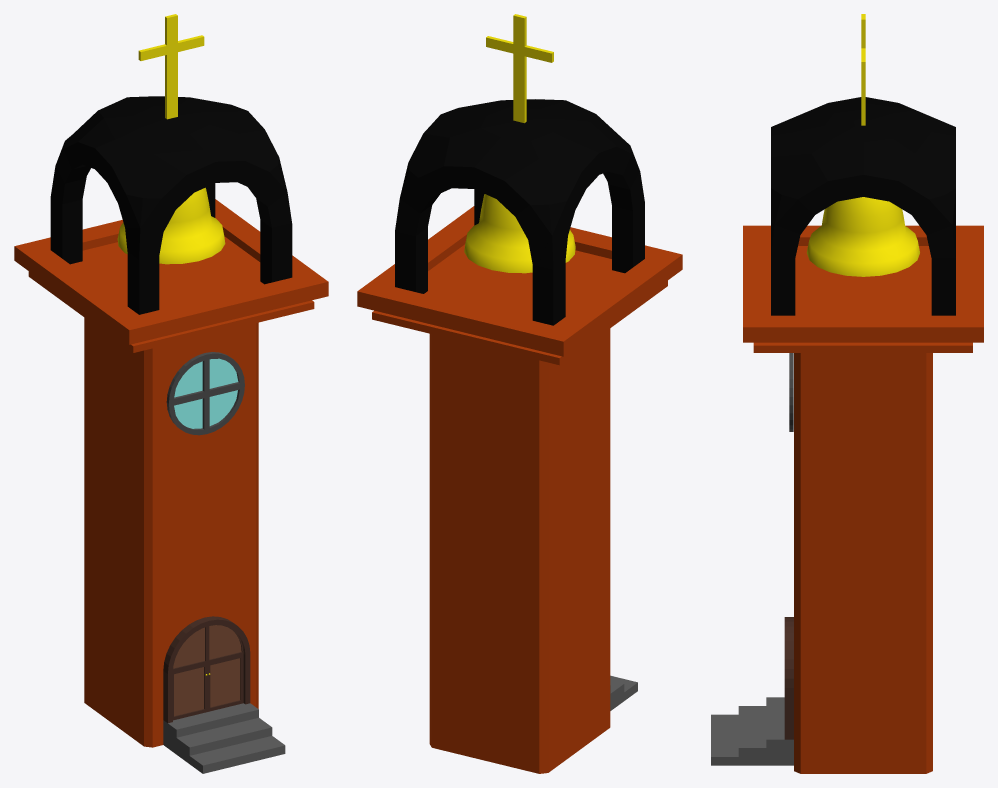
File: towerADI.fbx
The picture shows the model from 3 angles, left to right: view 1: azimuth 30°, elevation 25°; view 2: azimuth 150°, elevation 25°; view 3: azimuth 270°, elevation 25°; orthographic projection. The views are drawn at different scales.
Parts seen in each view (by area): view 1: Corp Turn, arcada, Scari, usa, Rozasa, cloot, usa arcada, Cruce; view 2: Corp Turn, arcada, cloot, Cruce, Scari; view 3: Corp Turn, arcada, cloot, Scari, usa arcada, Cruce.
Boxes of the visible parts, x1=… form: Corp Turn: x1=14, y1=199, x2=328, y2=747; arcada: x1=50, y1=96, x2=292, y2=314; Scari: x1=163, y1=703, x2=285, y2=773; usa: x1=173, y1=625, x2=243, y2=720; Rozasa: x1=166, y1=352, x2=244, y2=435; cloot: x1=117, y1=187, x2=225, y2=264; usa arcada: x1=163, y1=616, x2=250, y2=723; Cruce: x1=138, y1=14, x2=204, y2=119; Corp Turn: x1=357, y1=206, x2=682, y2=773; arcada: x1=395, y1=99, x2=644, y2=325; cloot: x1=464, y1=194, x2=575, y2=273; Cruce: x1=486, y1=14, x2=553, y2=123; Scari: x1=610, y1=675, x2=637, y2=710; Corp Turn: x1=743, y1=225, x2=983, y2=773; arcada: x1=771, y1=97, x2=955, y2=315; cloot: x1=806, y1=197, x2=919, y2=276; Scari: x1=711, y1=697, x2=793, y2=765; usa arcada: x1=784, y1=617, x2=793, y2=739; Cruce: x1=861, y1=14, x2=865, y2=125.
Bounding box in the file's own units: 694 × 2315 × 786.
